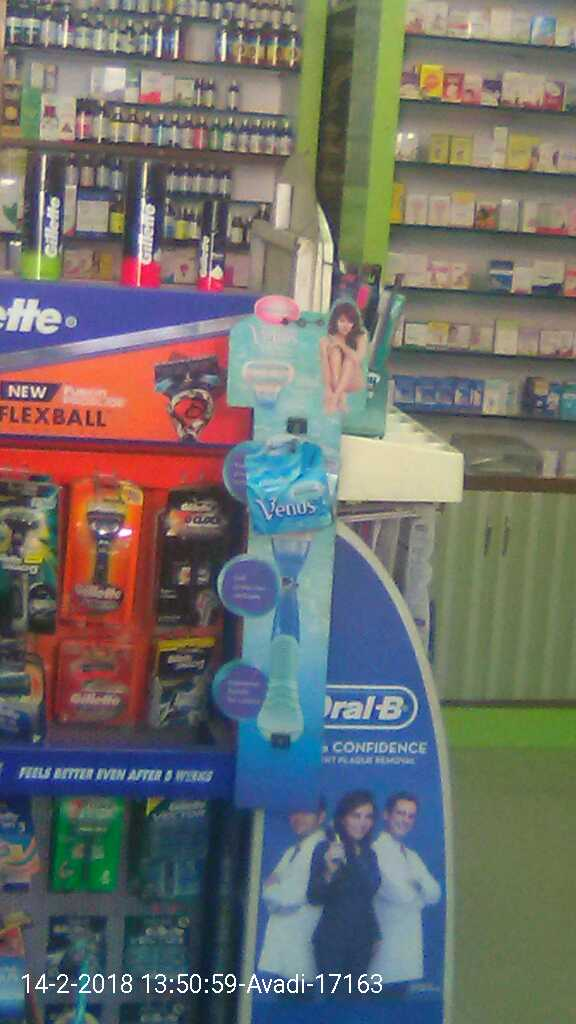beauty: (65, 469, 134, 625), (232, 432, 328, 535), (142, 630, 220, 742), (45, 799, 114, 900), (121, 150, 170, 291), (145, 792, 204, 905), (22, 144, 67, 280), (62, 649, 128, 735), (196, 186, 226, 296)
